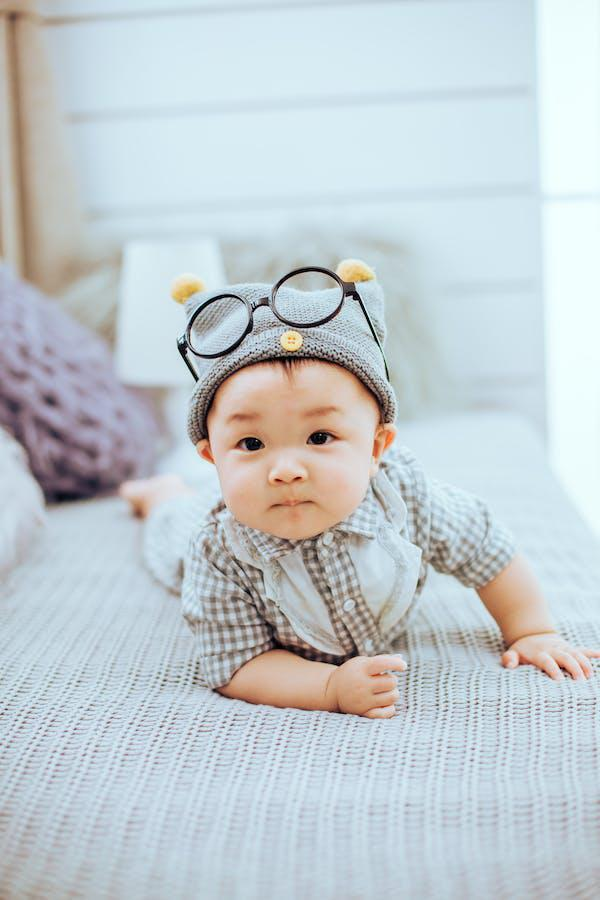child: (125, 241, 574, 742)
